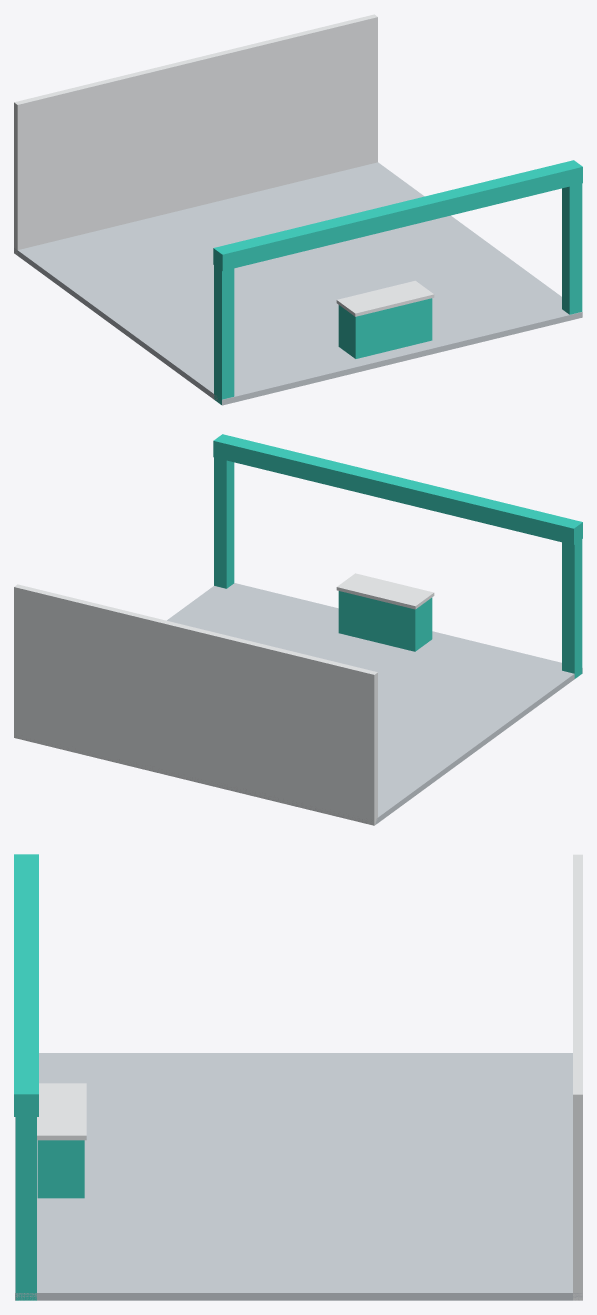
3 renders of one model, top to bottom at view 1: azimuth 30°, elevation 25°; view 2: azimuth 150°, elevation 25°; view 3: azimuth 270°, elevation 25°, orthographic. The views are drawn at different scales.
Visible parts, largest first — view 1: Exhibition Booth Concept; view 2: Exhibition Booth Concept; view 3: Exhibition Booth Concept.
Part boxes in pixels (x1,y1,x2,y2): Exhibition Booth Concept: [14, 14, 582, 405]; Exhibition Booth Concept: [14, 434, 582, 825]; Exhibition Booth Concept: [14, 854, 582, 1300].
Bounding box in the file's own units: 8 × 3.2 × 8.01.
